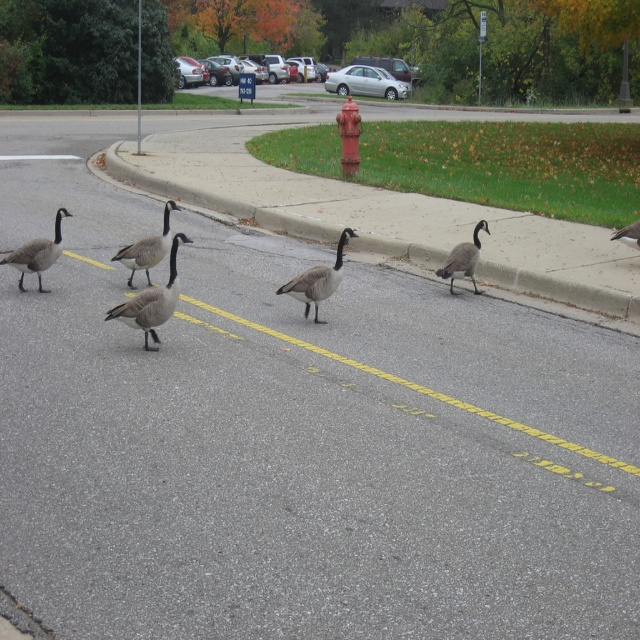Goose: (107, 233, 193, 348), (267, 224, 355, 322), (1, 203, 65, 294), (113, 200, 182, 283), (431, 214, 492, 300)
